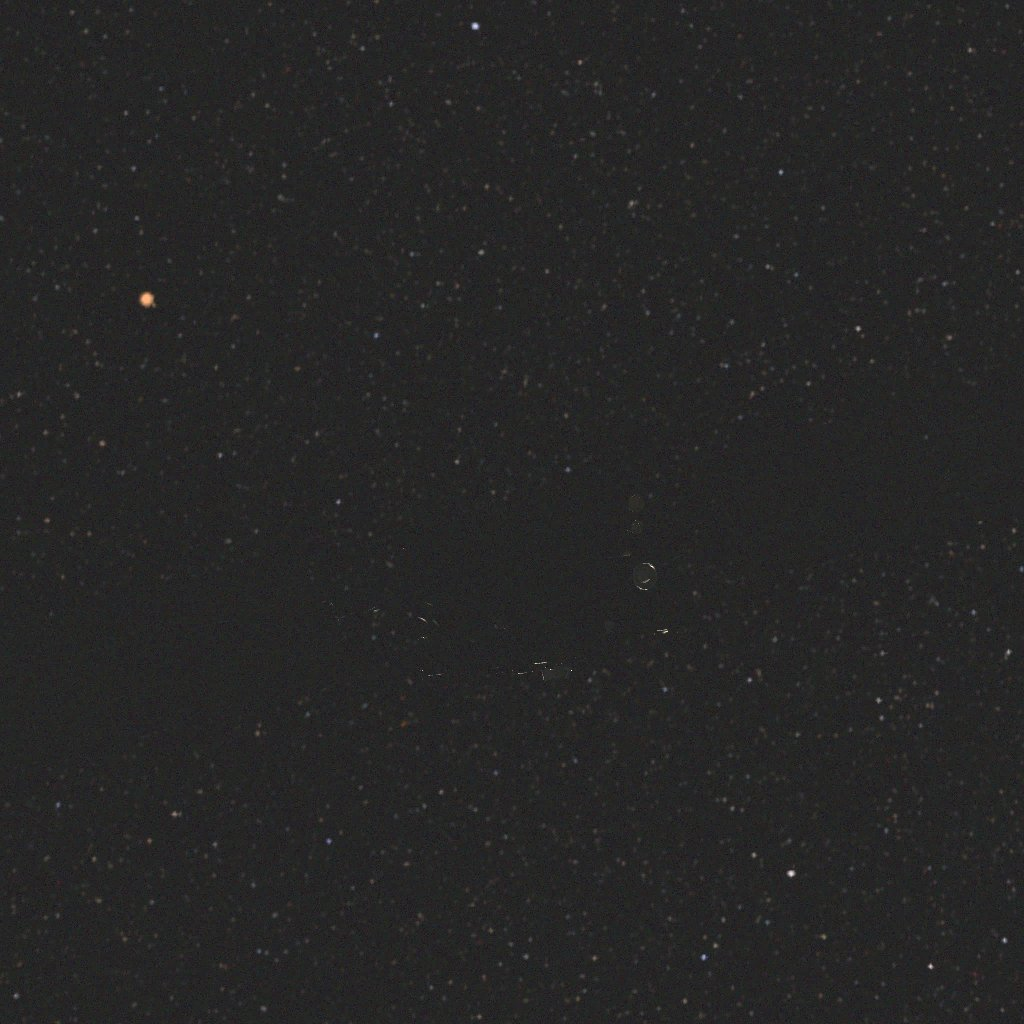smart_1: (0, 377, 1024, 771)
